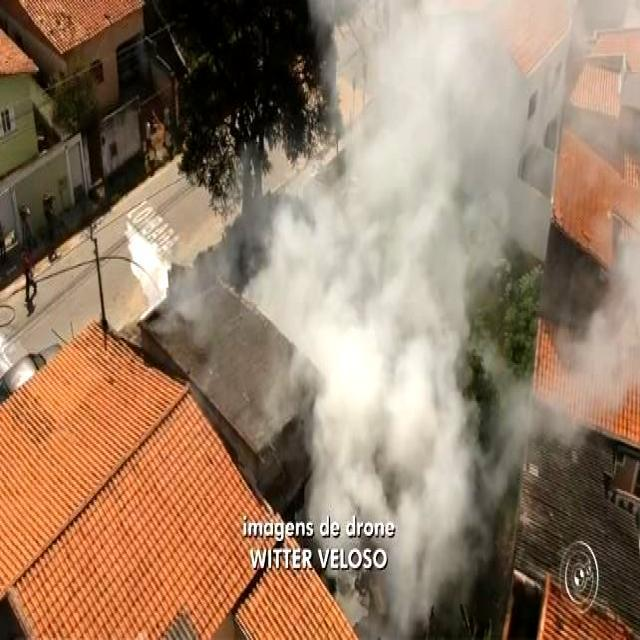Smoke: (258, 12, 622, 538)
